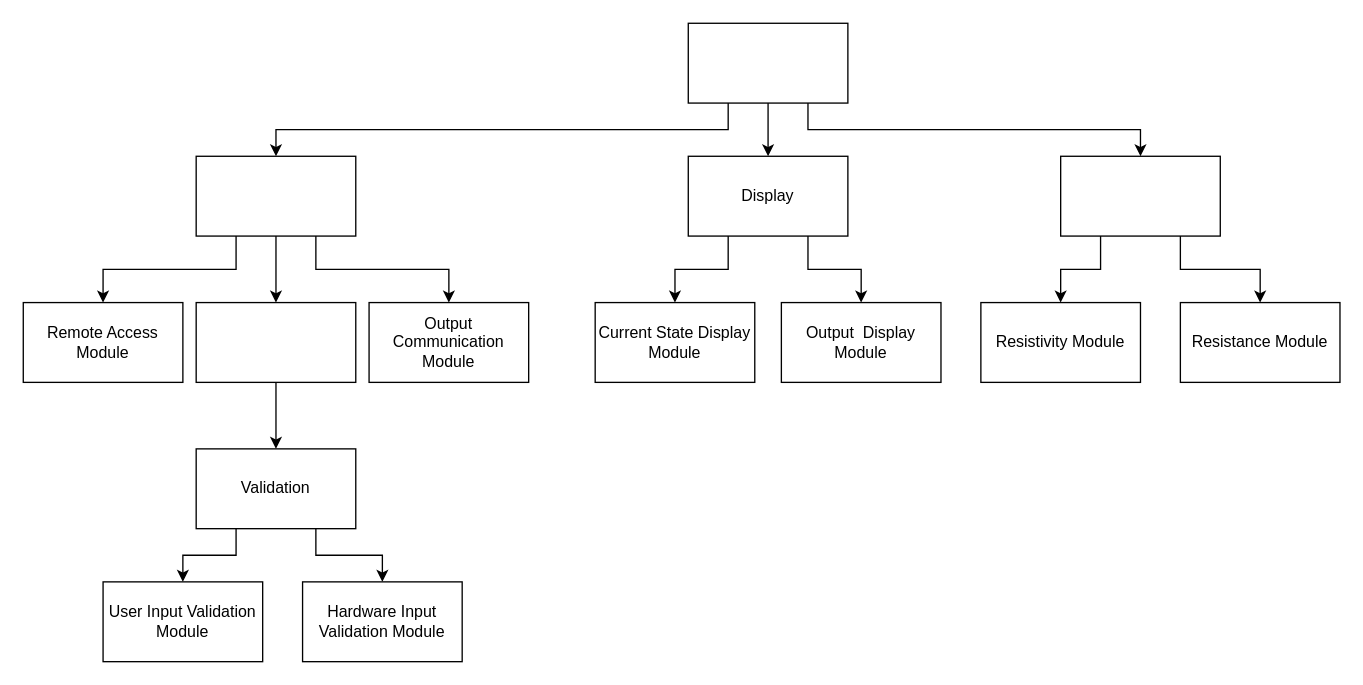
Some shapes in this 1363 by 685 pixel diagram are drawn without their labels. The shapes that lost their labels are listed below. From the top down, each one's centre as x and y in pixels, then its label:
At (767,62): "ReSprint".
At (275,195): "Communication".
At (1139,195): "Calculation".
At (275,341): "Input Communication Module".
